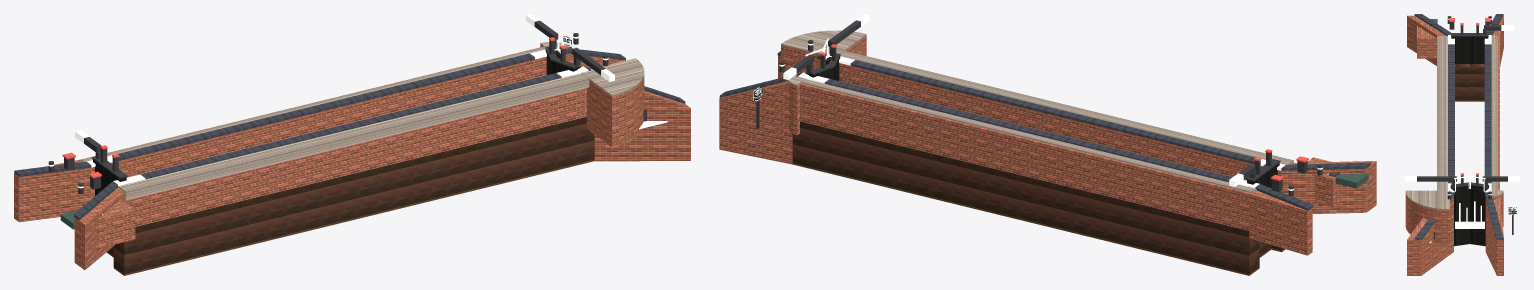
File: lock-53.glb
The picture shows the model from 3 angles, left to right: view 1: azimuth 30°, elevation 25°; view 2: azimuth 150°, elevation 25°; view 3: azimuth 270°, elevation 25°; orthographic projection. The views are drawn at different scales.
Visible parts, largest first — view 1: Chamber, ChamberWet, Edge, Coping.001, TopGateCap, Coping, TopGate; view 2: Chamber, ChamberWet, Coping.001, Edge, TopGateCap, Coping, TopGate; view 3: Chamber, Edge, Coping.001, TopGate, TopGateCap, ChamberWet, Coping, Leak, PaddleTop.
Part boxes in pixels (x1,y1,x2,y2): Chamber: [14, 44, 690, 269]; ChamberWet: [106, 117, 594, 275]; Edge: [82, 42, 644, 199]; Coping.001: [14, 46, 685, 220]; TopGateCap: [48, 20, 646, 194]; Coping: [48, 14, 614, 188]; TopGate: [93, 50, 581, 195]; Chamber: [719, 35, 1376, 255]; ChamberWet: [792, 121, 1285, 275]; Coping.001: [719, 51, 1370, 210]; Edge: [781, 30, 1293, 192]; TopGateCap: [756, 20, 1322, 196]; Coping: [779, 14, 1322, 190]; TopGate: [805, 56, 1279, 188]; Chamber: [1405, 15, 1503, 275]; Edge: [1405, 35, 1503, 209]; Coping.001: [1414, 14, 1503, 239]; TopGate: [1450, 36, 1488, 246]; TopGateCap: [1417, 16, 1513, 239]; ChamberWet: [1455, 64, 1484, 101]; Coping: [1405, 18, 1519, 195]; Leak: [1421, 28, 1484, 242]; PaddleTop: [1449, 18, 1490, 175].
Size of the model in its own units: 33.64 by 5.67 by 8.01.
11 materials, 8 textured.
